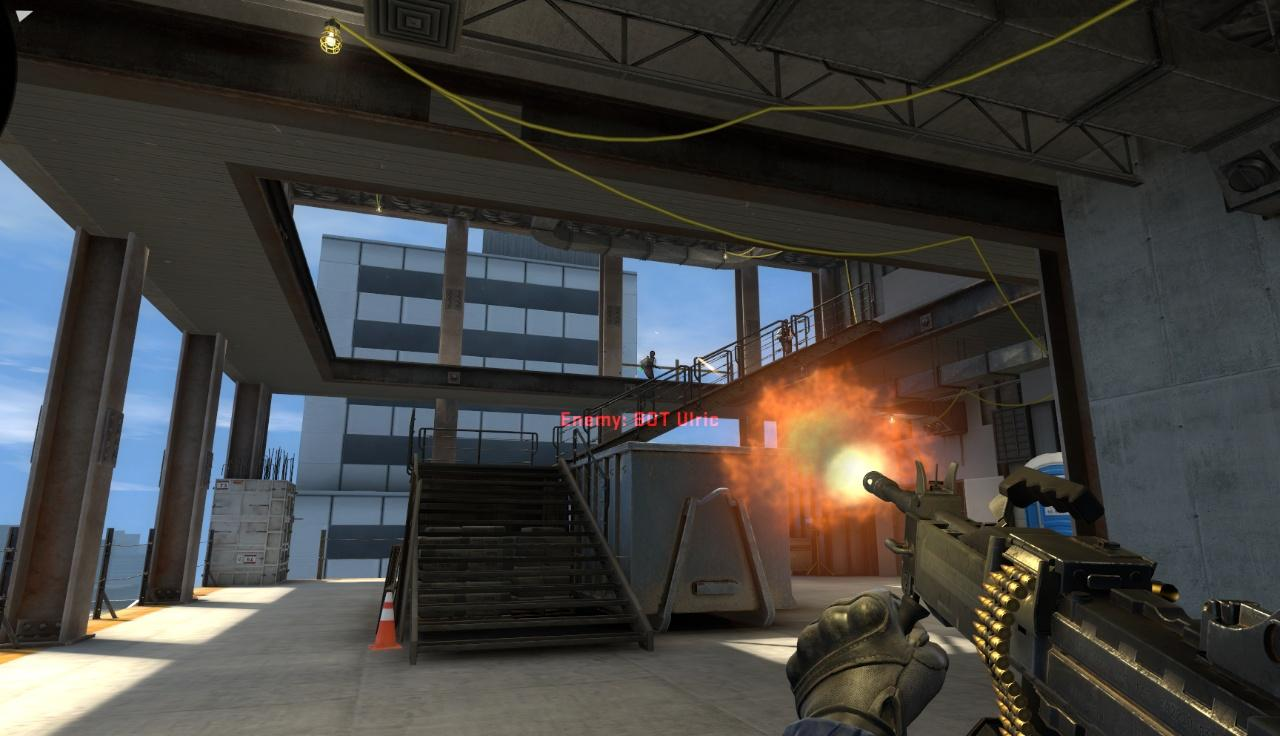rifle: (813, 458, 1278, 734)
tt: (777, 318, 794, 357), (641, 349, 658, 380)
tthead: (649, 350, 656, 358)
